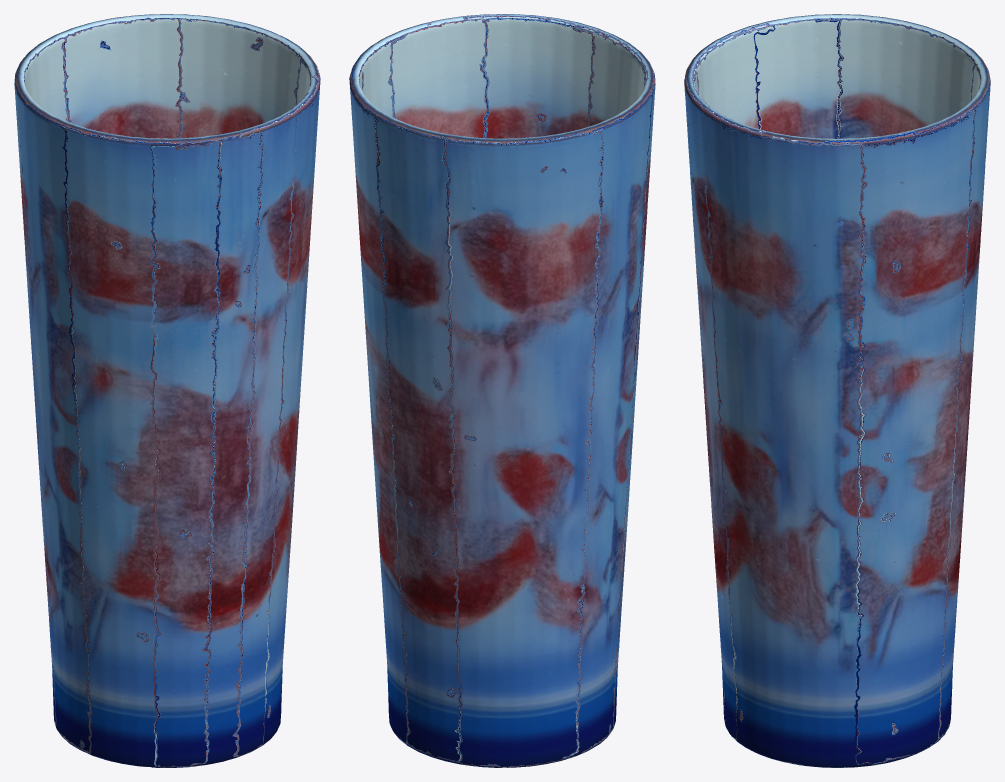
The picture shows the model from 3 angles, left to right: view 1: azimuth 30°, elevation 25°; view 2: azimuth 150°, elevation 25°; view 3: azimuth 270°, elevation 25°; orthographic projection.
Bounding box in the file's own units: 0.7941 × 1.84 × 0.7937.
1 material, 1 textured.
